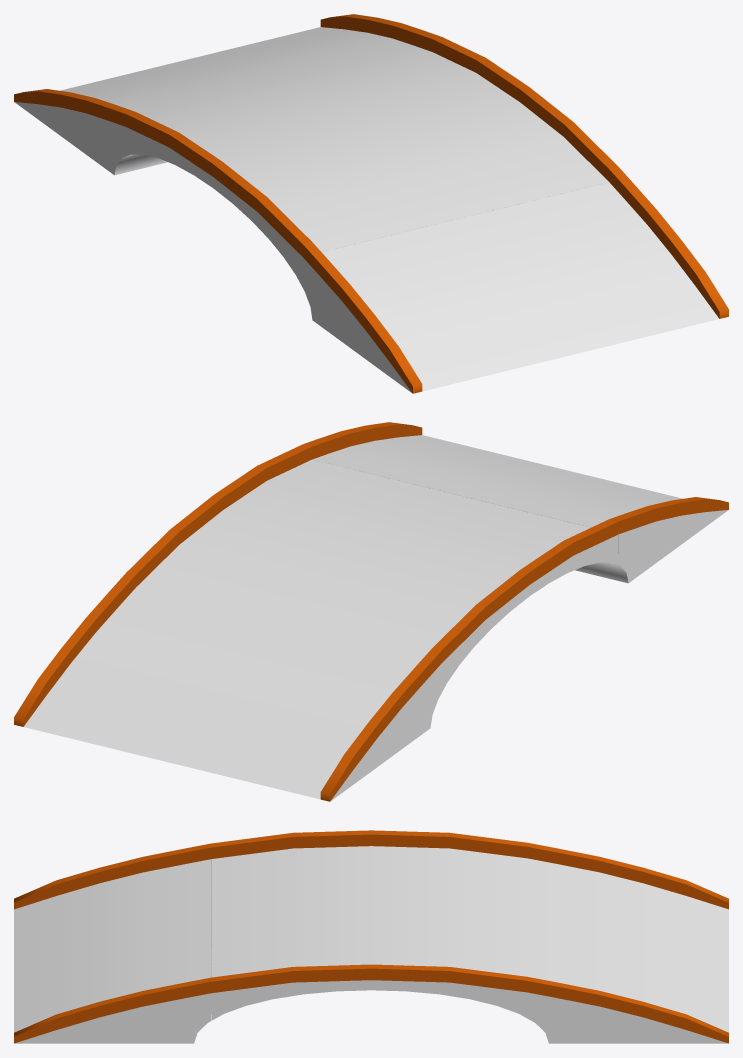
File: New_bridge.fbx
3 renders of one model, top to bottom at view 1: azimuth 30°, elevation 25°; view 2: azimuth 150°, elevation 25°; view 3: azimuth 270°, elevation 25°, orthographic. The views are drawn at different scales.
Parts seen in each view (by area): view 1: Bridge.001, Bridge; view 2: Bridge.001, Bridge; view 3: Bridge.001, Bridge.
Boxes of the visible parts, <box> form: Bridge.001: <box>14,14,618,286</box>; Bridge: <box>302,167,728,393</box>; Bridge.001: <box>14,444,618,801</box>; Bridge: <box>303,422,728,583</box>; Bridge.001: <box>211,830,728,1043</box>; Bridge: <box>14,843,211,1043</box>.
Size of the model in its own units: 2594 by 656 by 5670.
